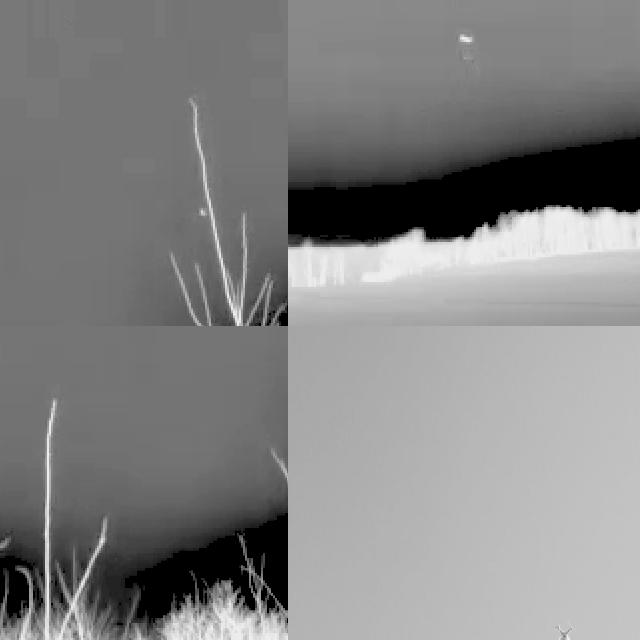0: (192, 206, 208, 226)
1: (449, 27, 483, 59)
drone: (550, 618, 576, 640)
